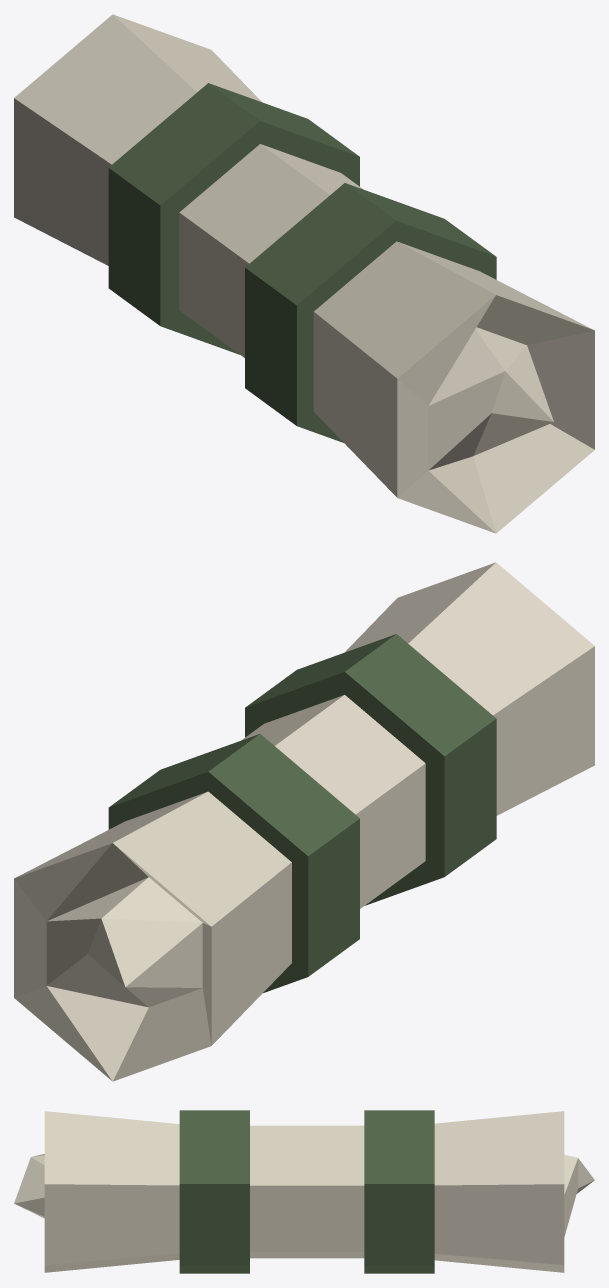
File: LightPaperDecorationSmallScroll1.fbx
3 renders of one model, top to bottom at view 1: azimuth 30°, elevation 25°; view 2: azimuth 150°, elevation 25°; view 3: azimuth 270°, elevation 25°, orthographic. The views are drawn at different scales.
Visible parts, largest first — view 1: LightPaperDecorationSmallScroll1; view 2: LightPaperDecorationSmallScroll1; view 3: LightPaperDecorationSmallScroll1.
Part boxes in pixels (x1=…): LightPaperDecorationSmallScroll1: x1=14, y1=14, x2=594, y2=533; LightPaperDecorationSmallScroll1: x1=14, y1=562, x2=594, y2=1081; LightPaperDecorationSmallScroll1: x1=14, y1=1110, x2=594, y2=1273.
Size of the model in its own units: 21.52 by 24.85 by 80.03.
Materials: 2 (2 with a texture image).
